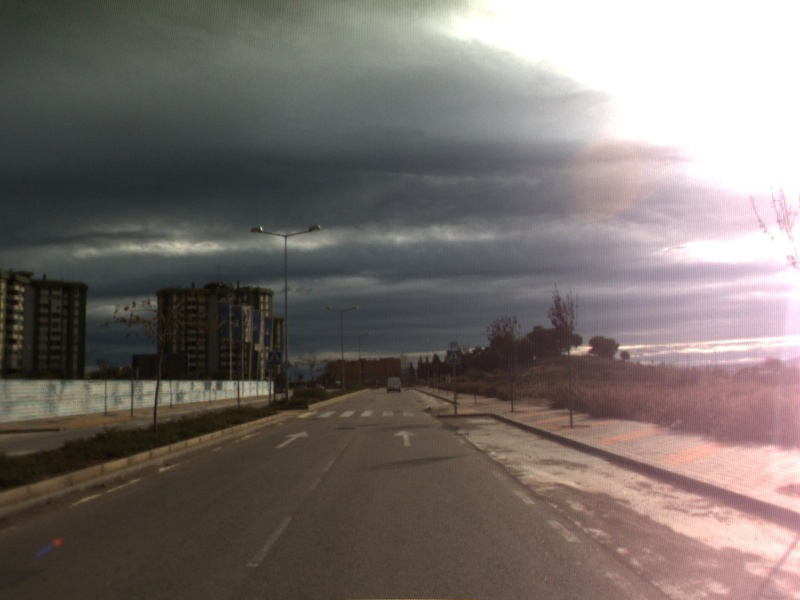STRAIGHT: (273, 429, 311, 450), (392, 427, 420, 448)
